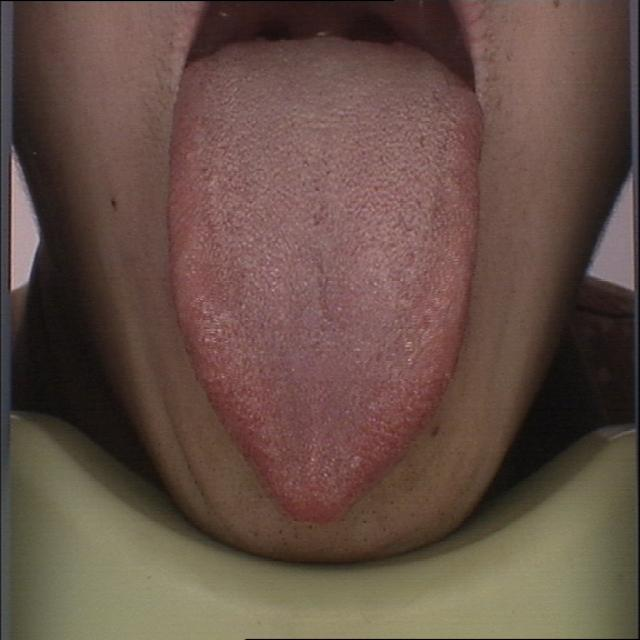tongue: (165, 49, 484, 534)
